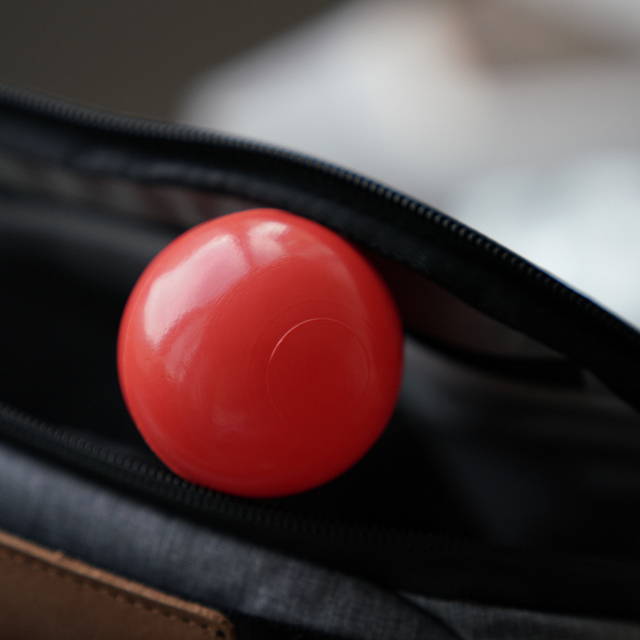Ball: (122, 212, 399, 487)
